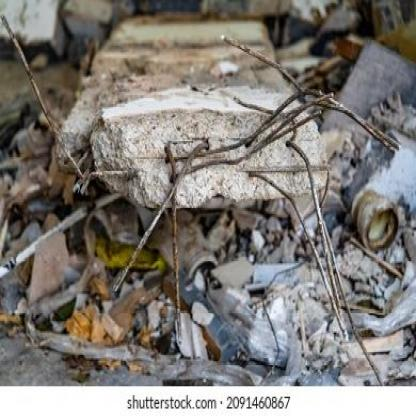rebar: (111, 30, 401, 389), (1, 13, 131, 197), (349, 234, 405, 282)
